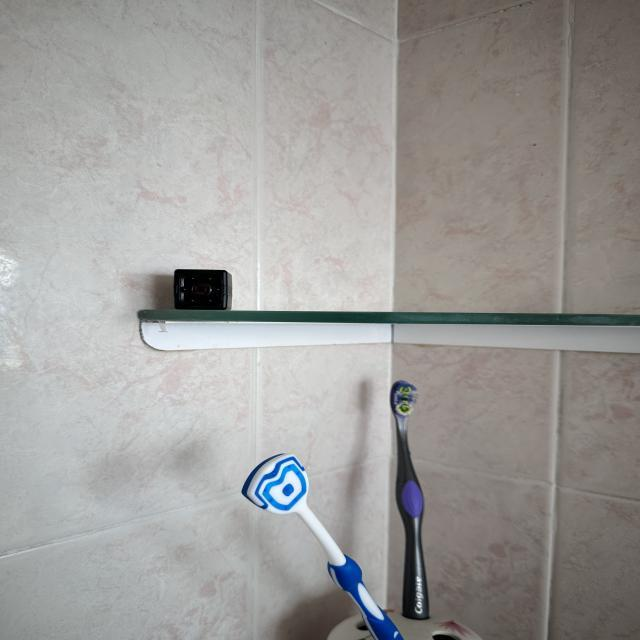hidden camera: (191, 281, 212, 298)
